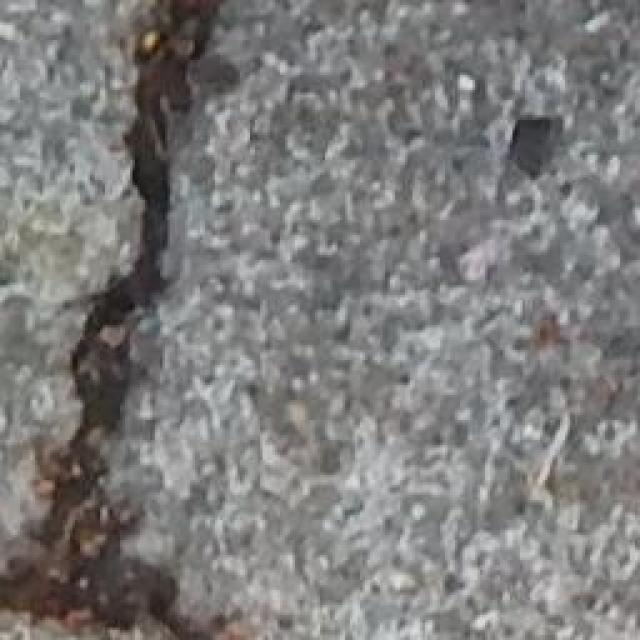concrete-crack: (0, 0, 250, 640), (508, 112, 565, 182)
